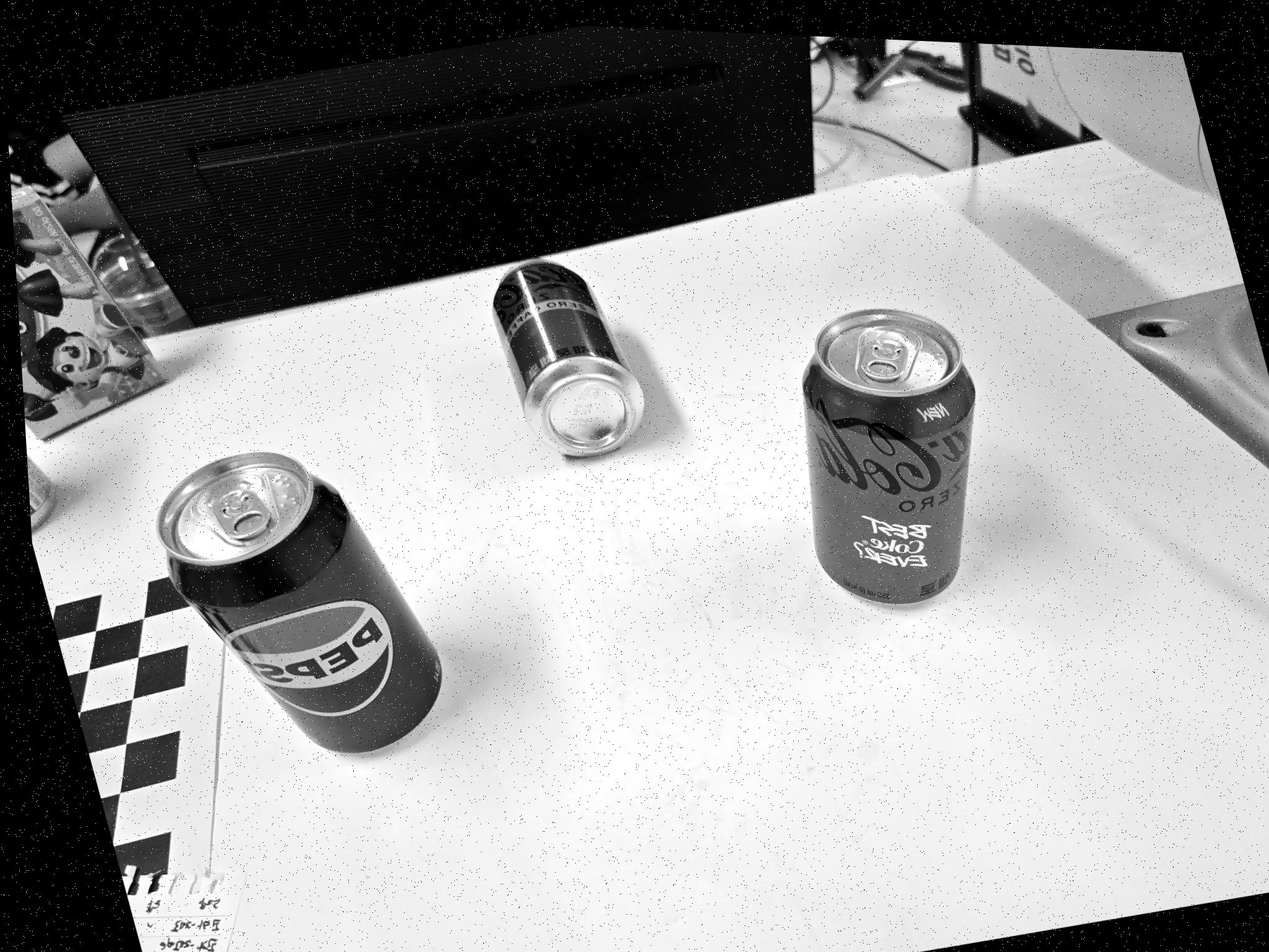can_coke_decaf: (489, 259, 646, 463)
can_coke_zero: (801, 308, 975, 603)
can_pepsi: (158, 449, 445, 755)
